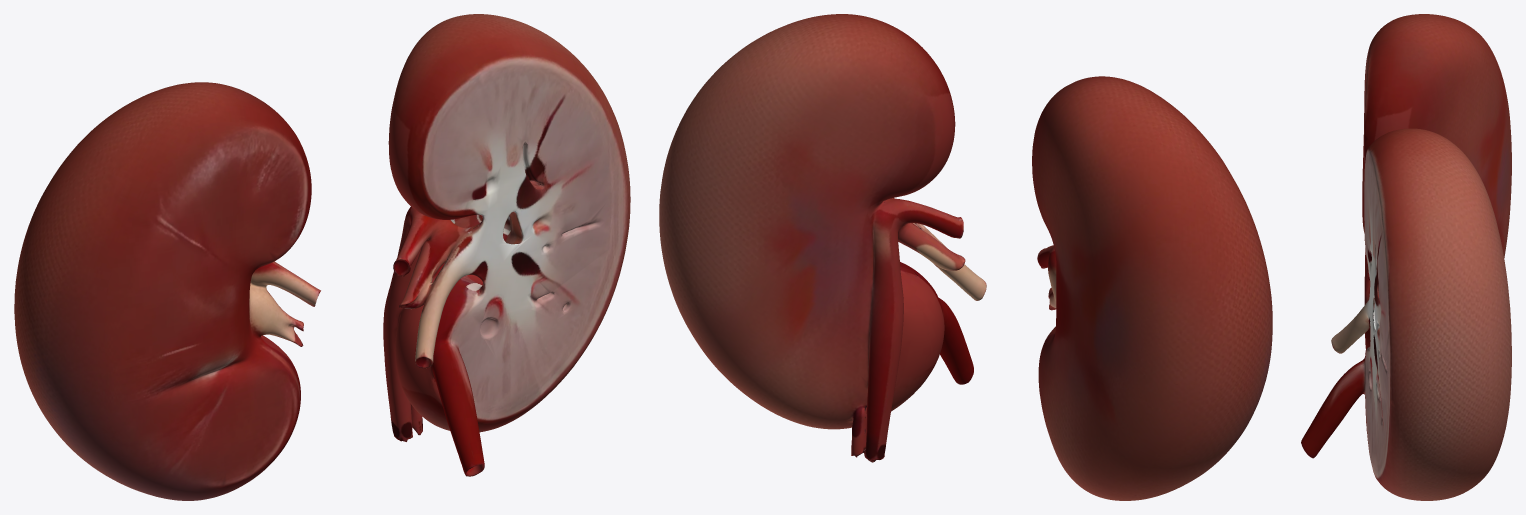
The model's file is horse_kidneys.glb.
3 renders of one model, left to right at view 1: azimuth 30°, elevation 25°; view 2: azimuth 150°, elevation 25°; view 3: azimuth 270°, elevation 25°, orthographic. The views are drawn at different scales.
Parts seen in each view (by area): view 1: model; view 2: model; view 3: model.
Boxes of the visible parts, x1,y1,x2,y2 form: model: (14,14,630,500); model: (659,14,1272,500); model: (1301,14,1511,500).
Size of the model in its own units: 1.9 by 1.27 by 0.6723.
1 material, 1 textured.
